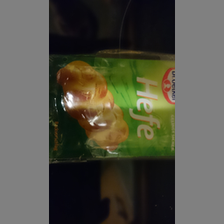cake: (48, 55, 175, 165)
